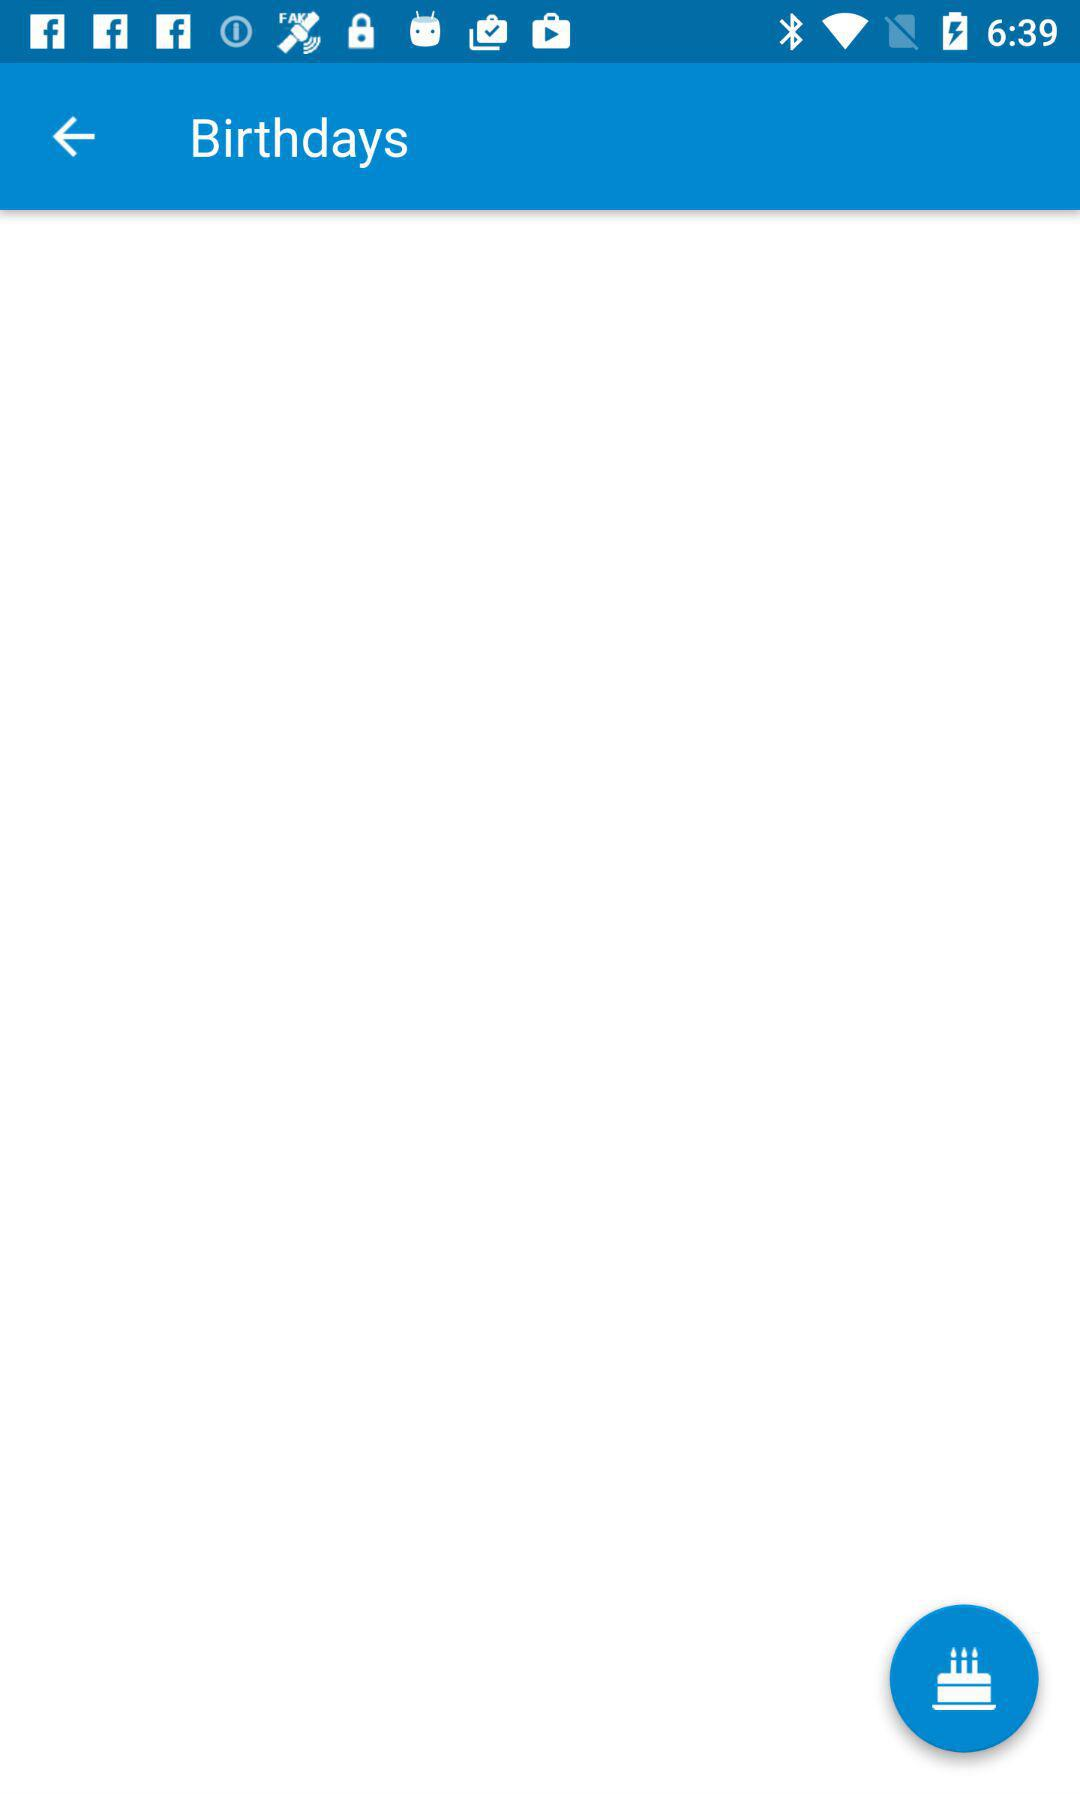Icon: (53, 117, 97, 159)
Image: (889, 1604, 1040, 1754)
Text: (193, 117, 409, 170)
Toolbar: (1, 63, 1080, 210)
UpperTaskBar: (1, 1, 1080, 64)
